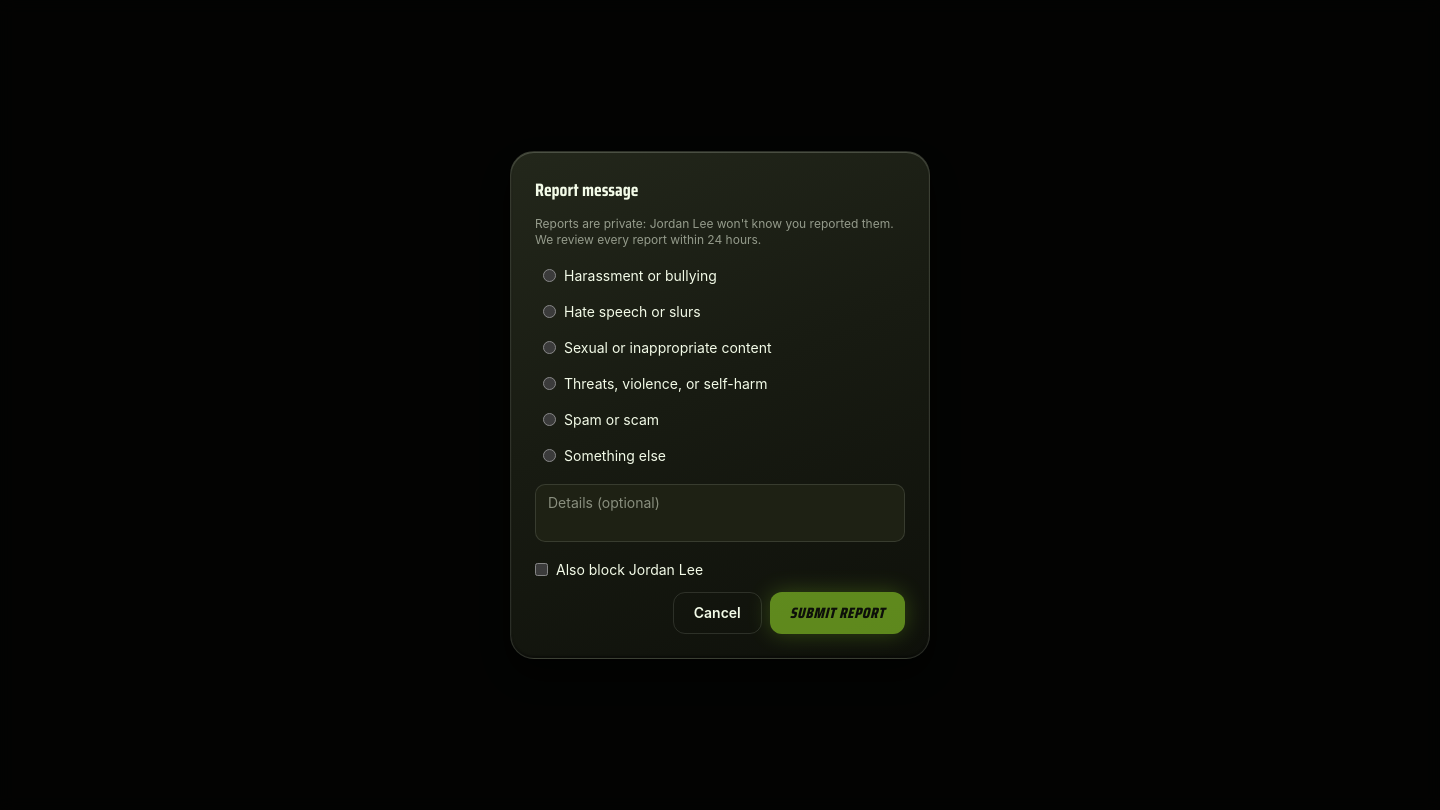
Test: needs a reason, then reports the message (and blocks when asked)
Expected: the button "Submit report" is disabled, left=770, top=592, right=905, bottom=634
Click the radio button labelled "Harassment or bullying": [550, 276] box left=543, top=269, right=556, bottom=282
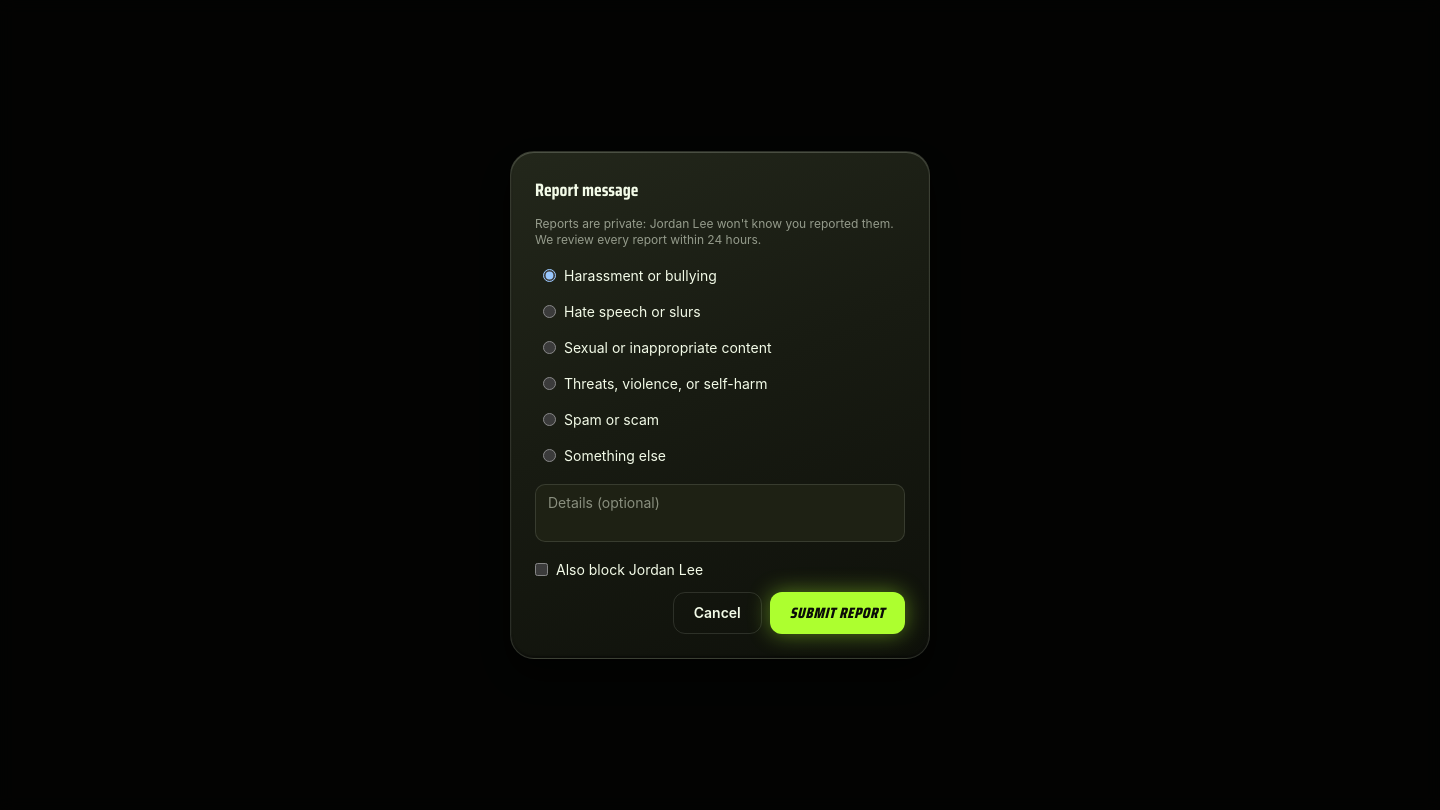
In the text box labelled "Details (optional)": [720, 513] box left=535, top=484, right=905, bottom=542, type "rude"
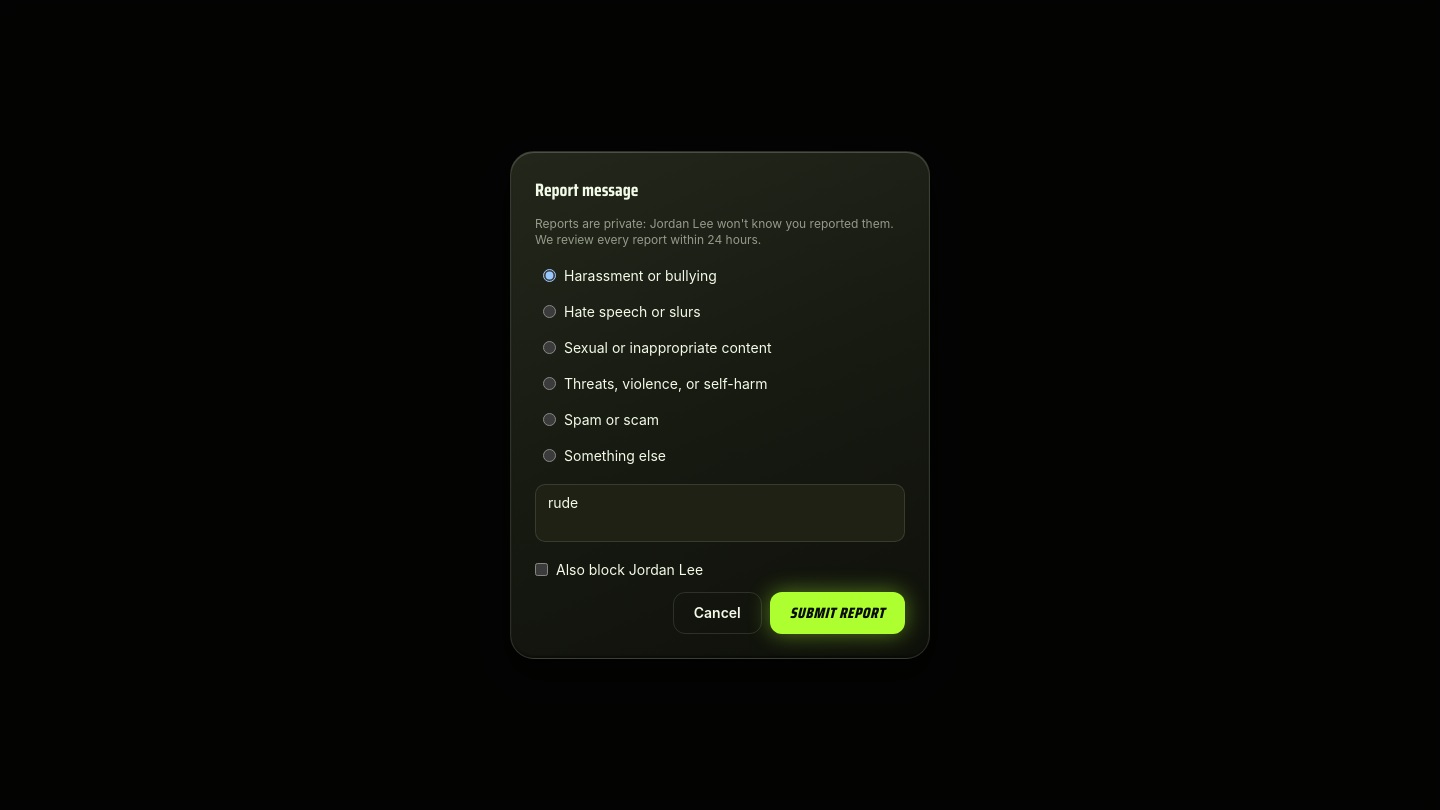
Click the checkbox labelled "Also block Jordan Lee": [542, 570] box left=535, top=563, right=548, bottom=576
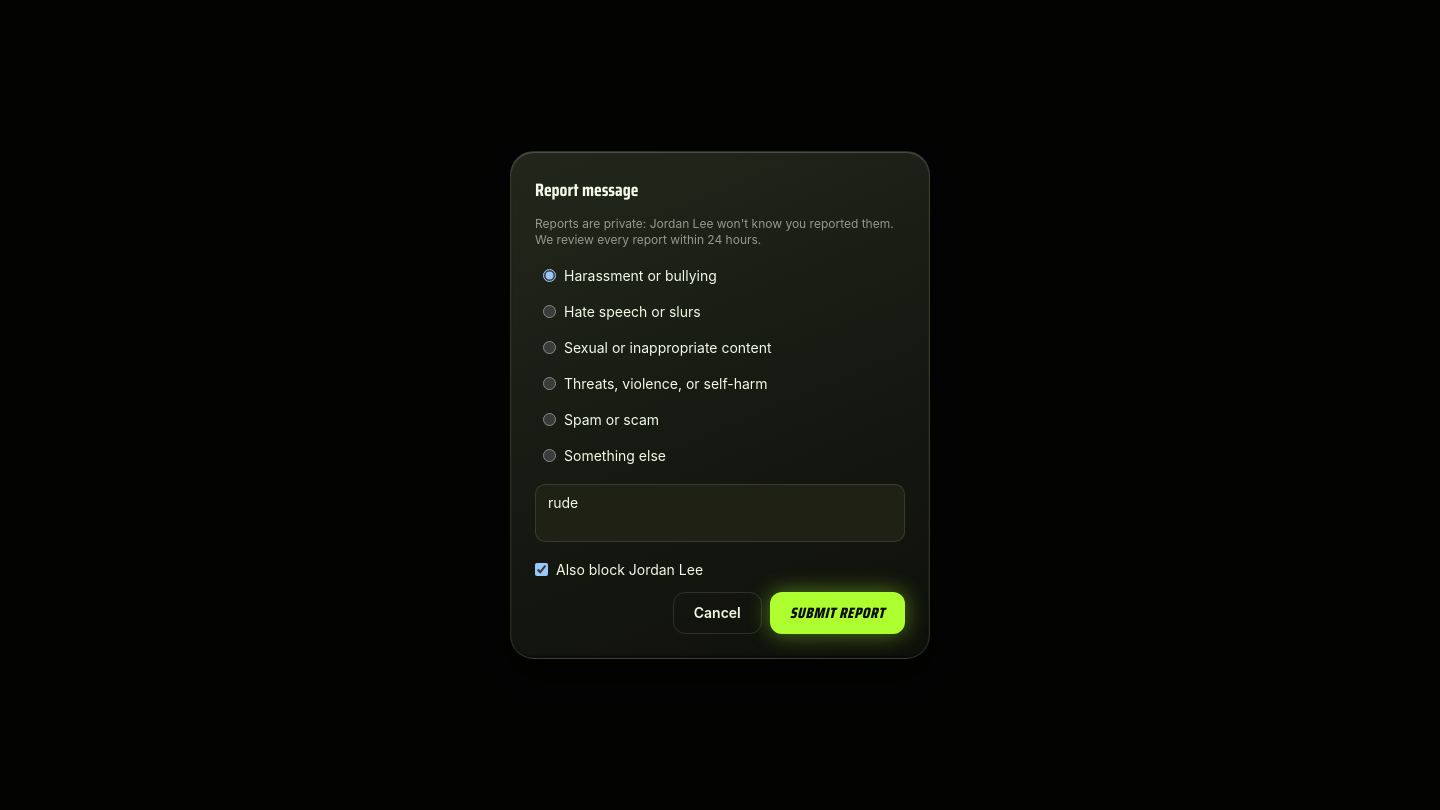
Click the button "Submit report": [837, 613] box left=770, top=592, right=905, bottom=634
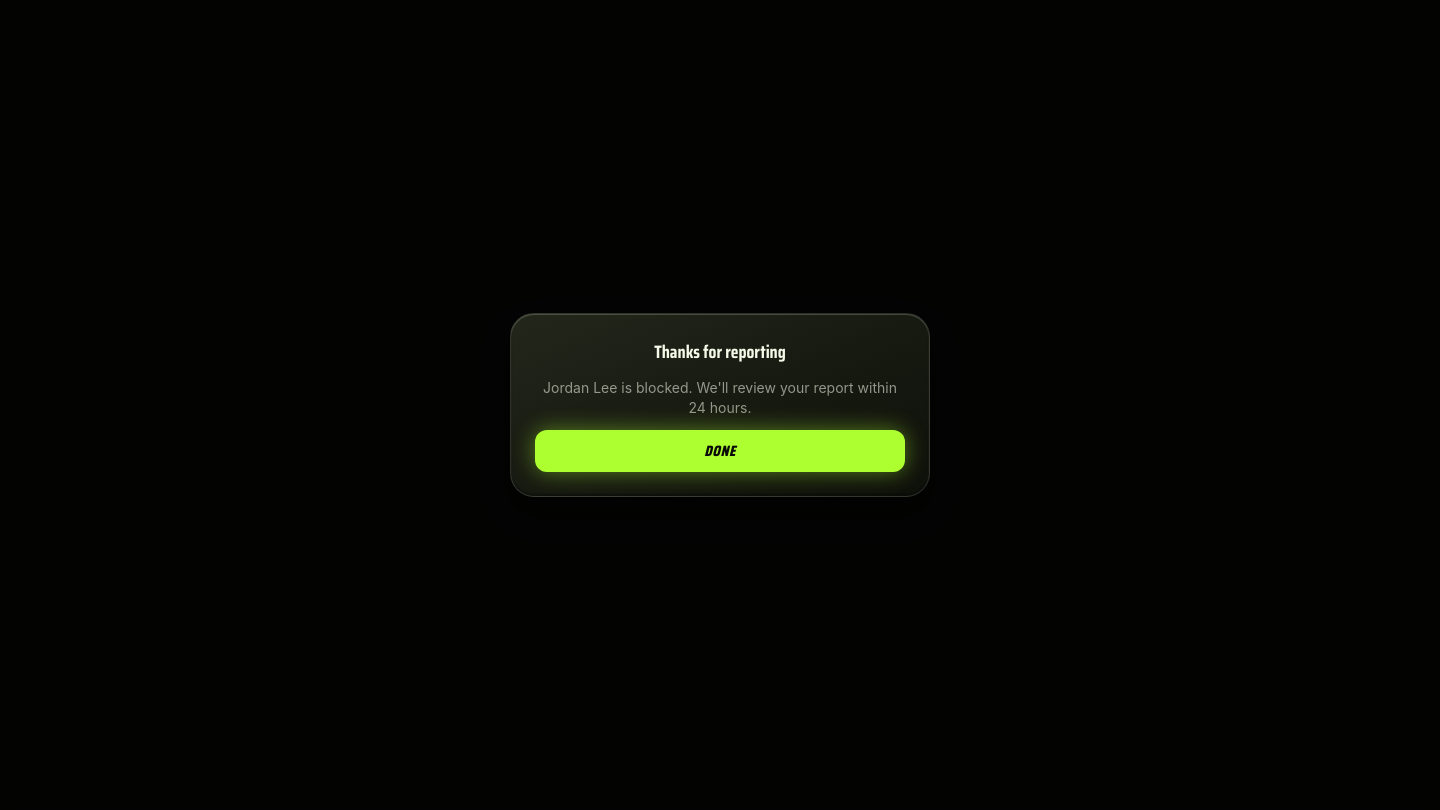
Expected: the text "review your report within 24 hours" is shown, left=688, top=379, right=897, bottom=416
